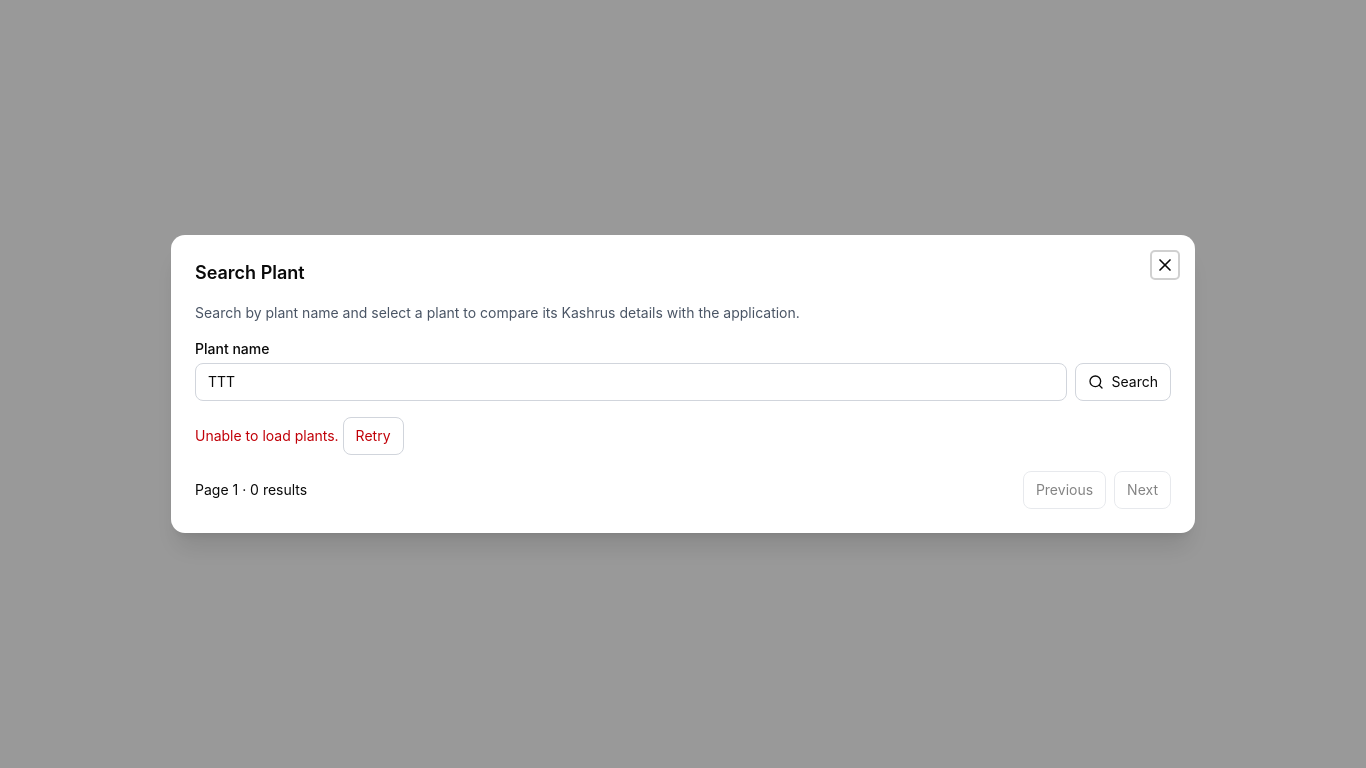
Test: plant search › allows retrying a failed search and reports empty results
This screenshot has width=1366, height=768.
Expected: the message "Unable to load plants. Retry" is shown, x1=195 y1=417 x2=404 y2=455
Click the button "Retry" at (373, 436), box x1=343 y1=417 x2=404 y2=455
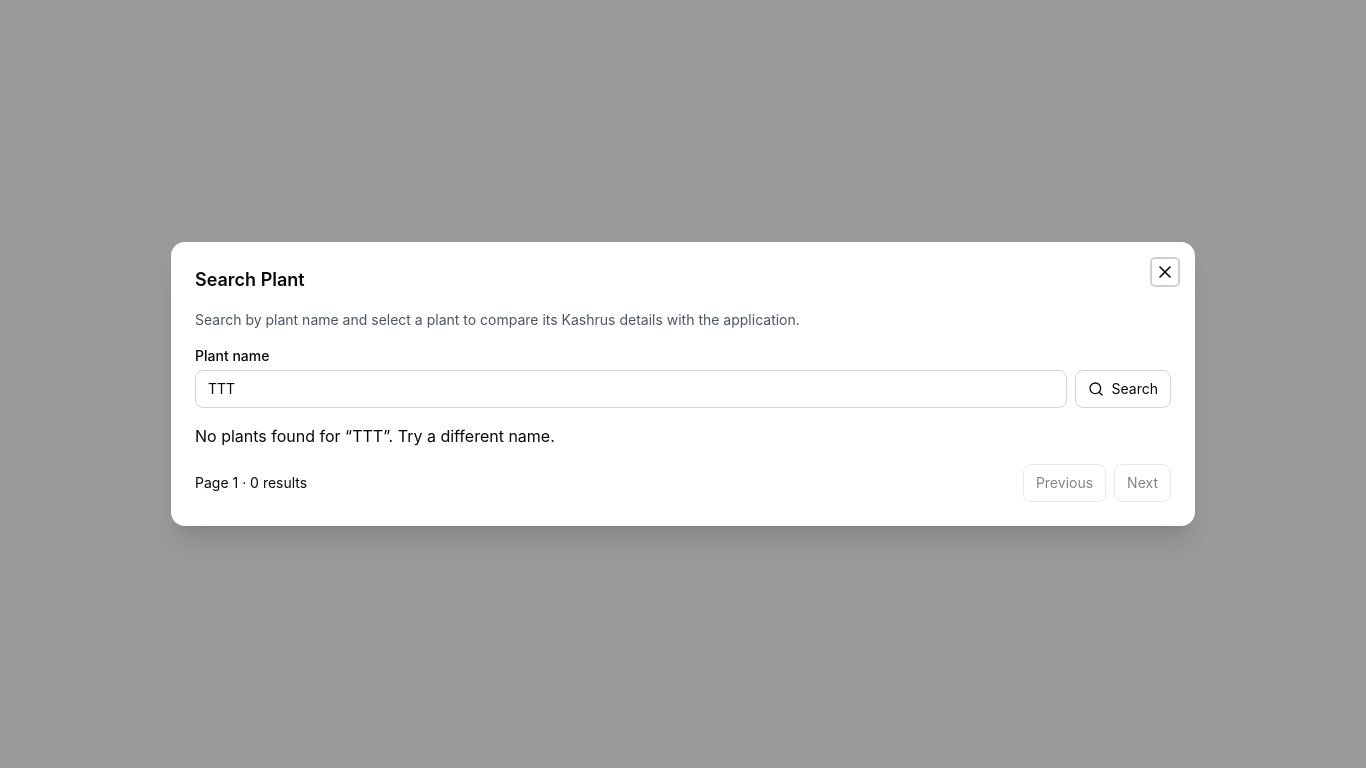
Expected: the text "No plants found for “TTT”. Try a different name." is shown, x1=195 y1=426 x2=555 y2=446
